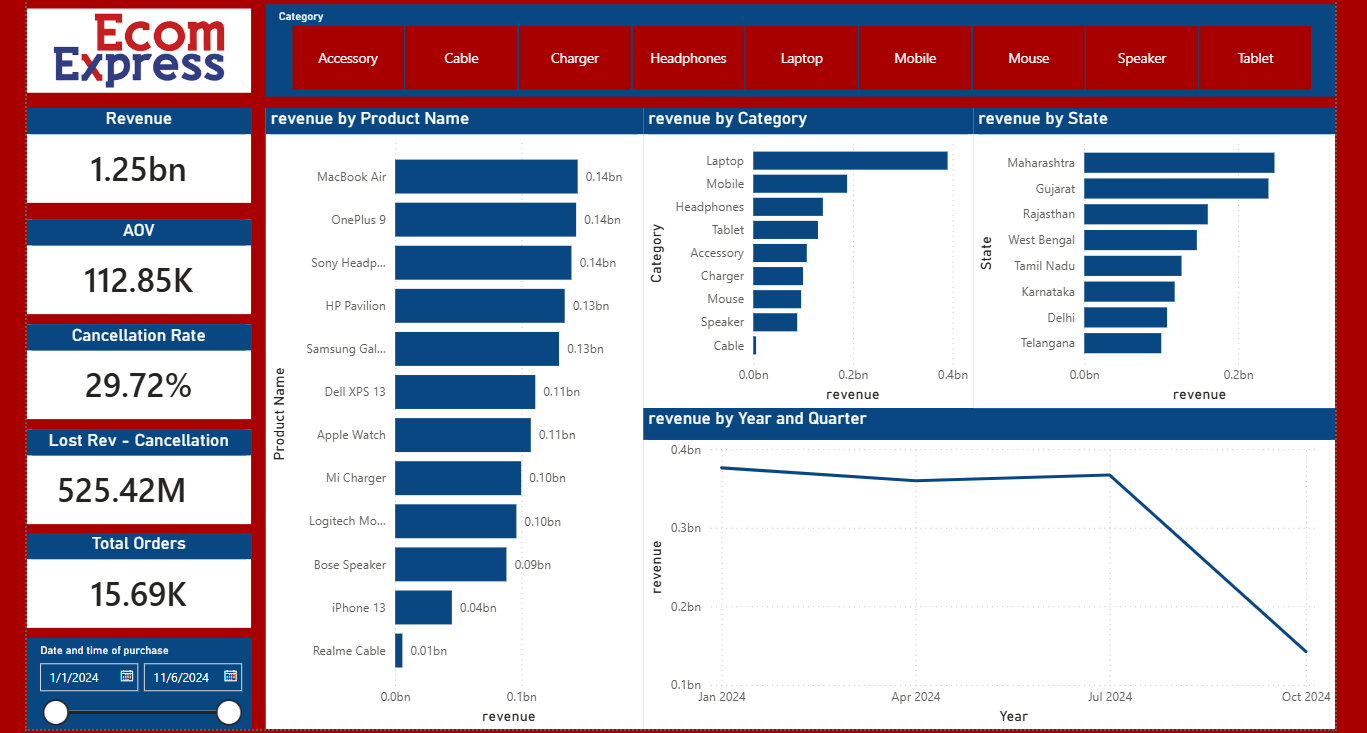

The dashboard page shown, as its layout file describes it:
{"tool":"powerbi","page":{"name":"Page 1","canvas":[1280,720],"ordinal":0},"visuals":[{"type":"shape","box":[0,0,1280.3,112.5],"z":0},{"type":"barChart","fields":{"Category":["products.Product Name"],"Y":["Table.revenue"]},"box":[233.6,112.5,369.3,607.7],"z":1000},{"type":"shape","box":[0,112.5,214,607.7],"z":2000},{"type":"barChart","fields":{"Category":["products.Category"],"Y":["Table.revenue"]},"box":[602.9,112.5,322.8,293.5],"z":3000},{"type":"lineChart","fields":{"Y":["Table.revenue"],"Category":["orders.Date and time of purchase.Variation.Date Hierarchy.Year","orders.Date and time of purchase.Variation.Date Hierarchy.Quarter","orders.Date and time of purchase.Variation.Date Hierarchy.Month","orders.Date and time of purchase.Variation.Date Hierarchy.Day"]},"box":[602.9,406,677.4,314.3],"z":4000},{"type":"clusteredBarChart","fields":{"Category":["customers.State"],"Y":["Table.revenue"]},"box":[925.7,112.5,354.6,293.5],"z":5000},{"type":"image","box":[0,0,218.9,112.5],"z":6000},{"type":"slicer","fields":{"Values":["products.Category"]},"box":[233.6,11,1046.7,90.5],"z":7000},{"type":"cardVisual","title":"Revenue","fields":{"Data":["Table.revenue"]},"box":[0,112.5,218.9,92.9],"z":8000},{"type":"cardVisual","title":"AOV","fields":{"Data":["Table.AOV"]},"box":[0,221.3,218.9,92.9],"z":9000},{"type":"cardVisual","title":"Cancellation Rate","fields":{"Data":["Table.Cancellation Rate"]},"box":[0,324.1,218.9,92.9],"z":10000},{"type":"cardVisual","title":"Lost Rev - Cancellation","fields":{"Data":["Table.lost_rev_cancellation"]},"box":[0,426.8,218.9,92.9],"z":11000},{"type":"cardVisual","title":"Total Orders","fields":{"Data":["CountNonNull(orders.OrderID)"]},"box":[0,528.3,218.9,92.9],"z":12000},{"type":"slicer","fields":{"Values":["orders.Date and time of purchase"]},"box":[0,631,218.9,89.3],"z":13000}]}

Visuals, with their boxes on the page's 1280x720 design canvas (x1, y1, x2, y2). These are canvas units, not pixel positions in the 1367x733 screenshot, which may show the page scaled, cropped or inside an application window:
shape: <box>0,0,1280,112</box>
barChart - products.Product Name x Table.revenue: <box>234,112,603,720</box>
shape: <box>0,112,214,720</box>
barChart - products.Category x Table.revenue: <box>603,112,926,406</box>
lineChart - Table.revenue x orders.Date and time of purchase.Variation.Date Hierarchy.Year: <box>603,406,1280,720</box>
clusteredBarChart - customers.State x Table.revenue: <box>926,112,1280,406</box>
image: <box>0,0,219,112</box>
slicer - products.Category: <box>234,11,1280,102</box>
"Revenue" cardVisual: <box>0,112,219,205</box>
"AOV" cardVisual: <box>0,221,219,314</box>
"Cancellation Rate" cardVisual: <box>0,324,219,417</box>
"Lost Rev - Cancellation" cardVisual: <box>0,427,219,520</box>
"Total Orders" cardVisual: <box>0,528,219,621</box>
slicer - orders.Date and time of purchase: <box>0,631,219,720</box>
